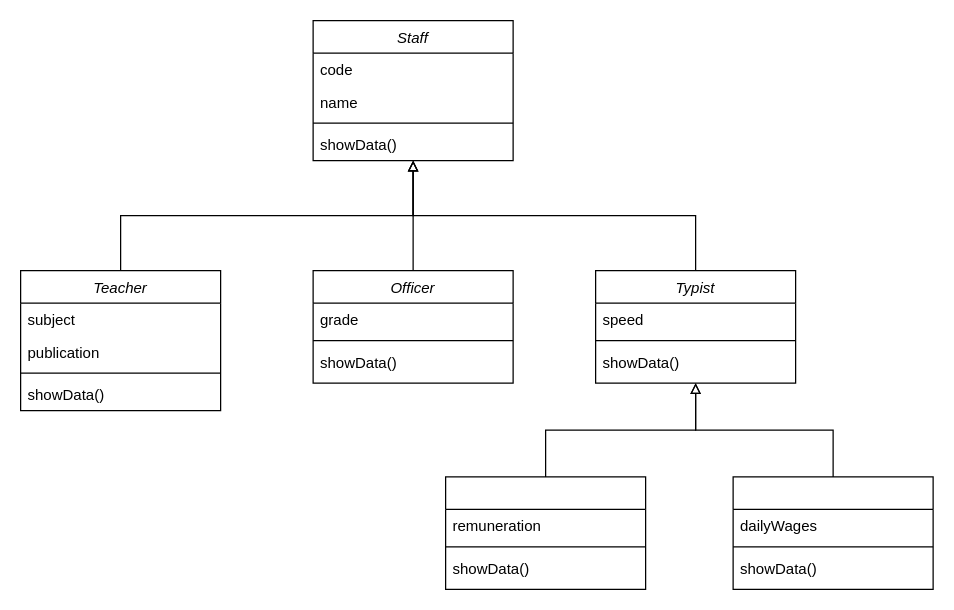
This 954x610 diagram has some shape labels left out. The shapes that lost their labels are listed below. From the top down, each one's box as (x1, y1, x2, y2) in pixels, then its label:
(444, 476, 646, 589): RegularTypist
(732, 476, 933, 589): CasualTypist
